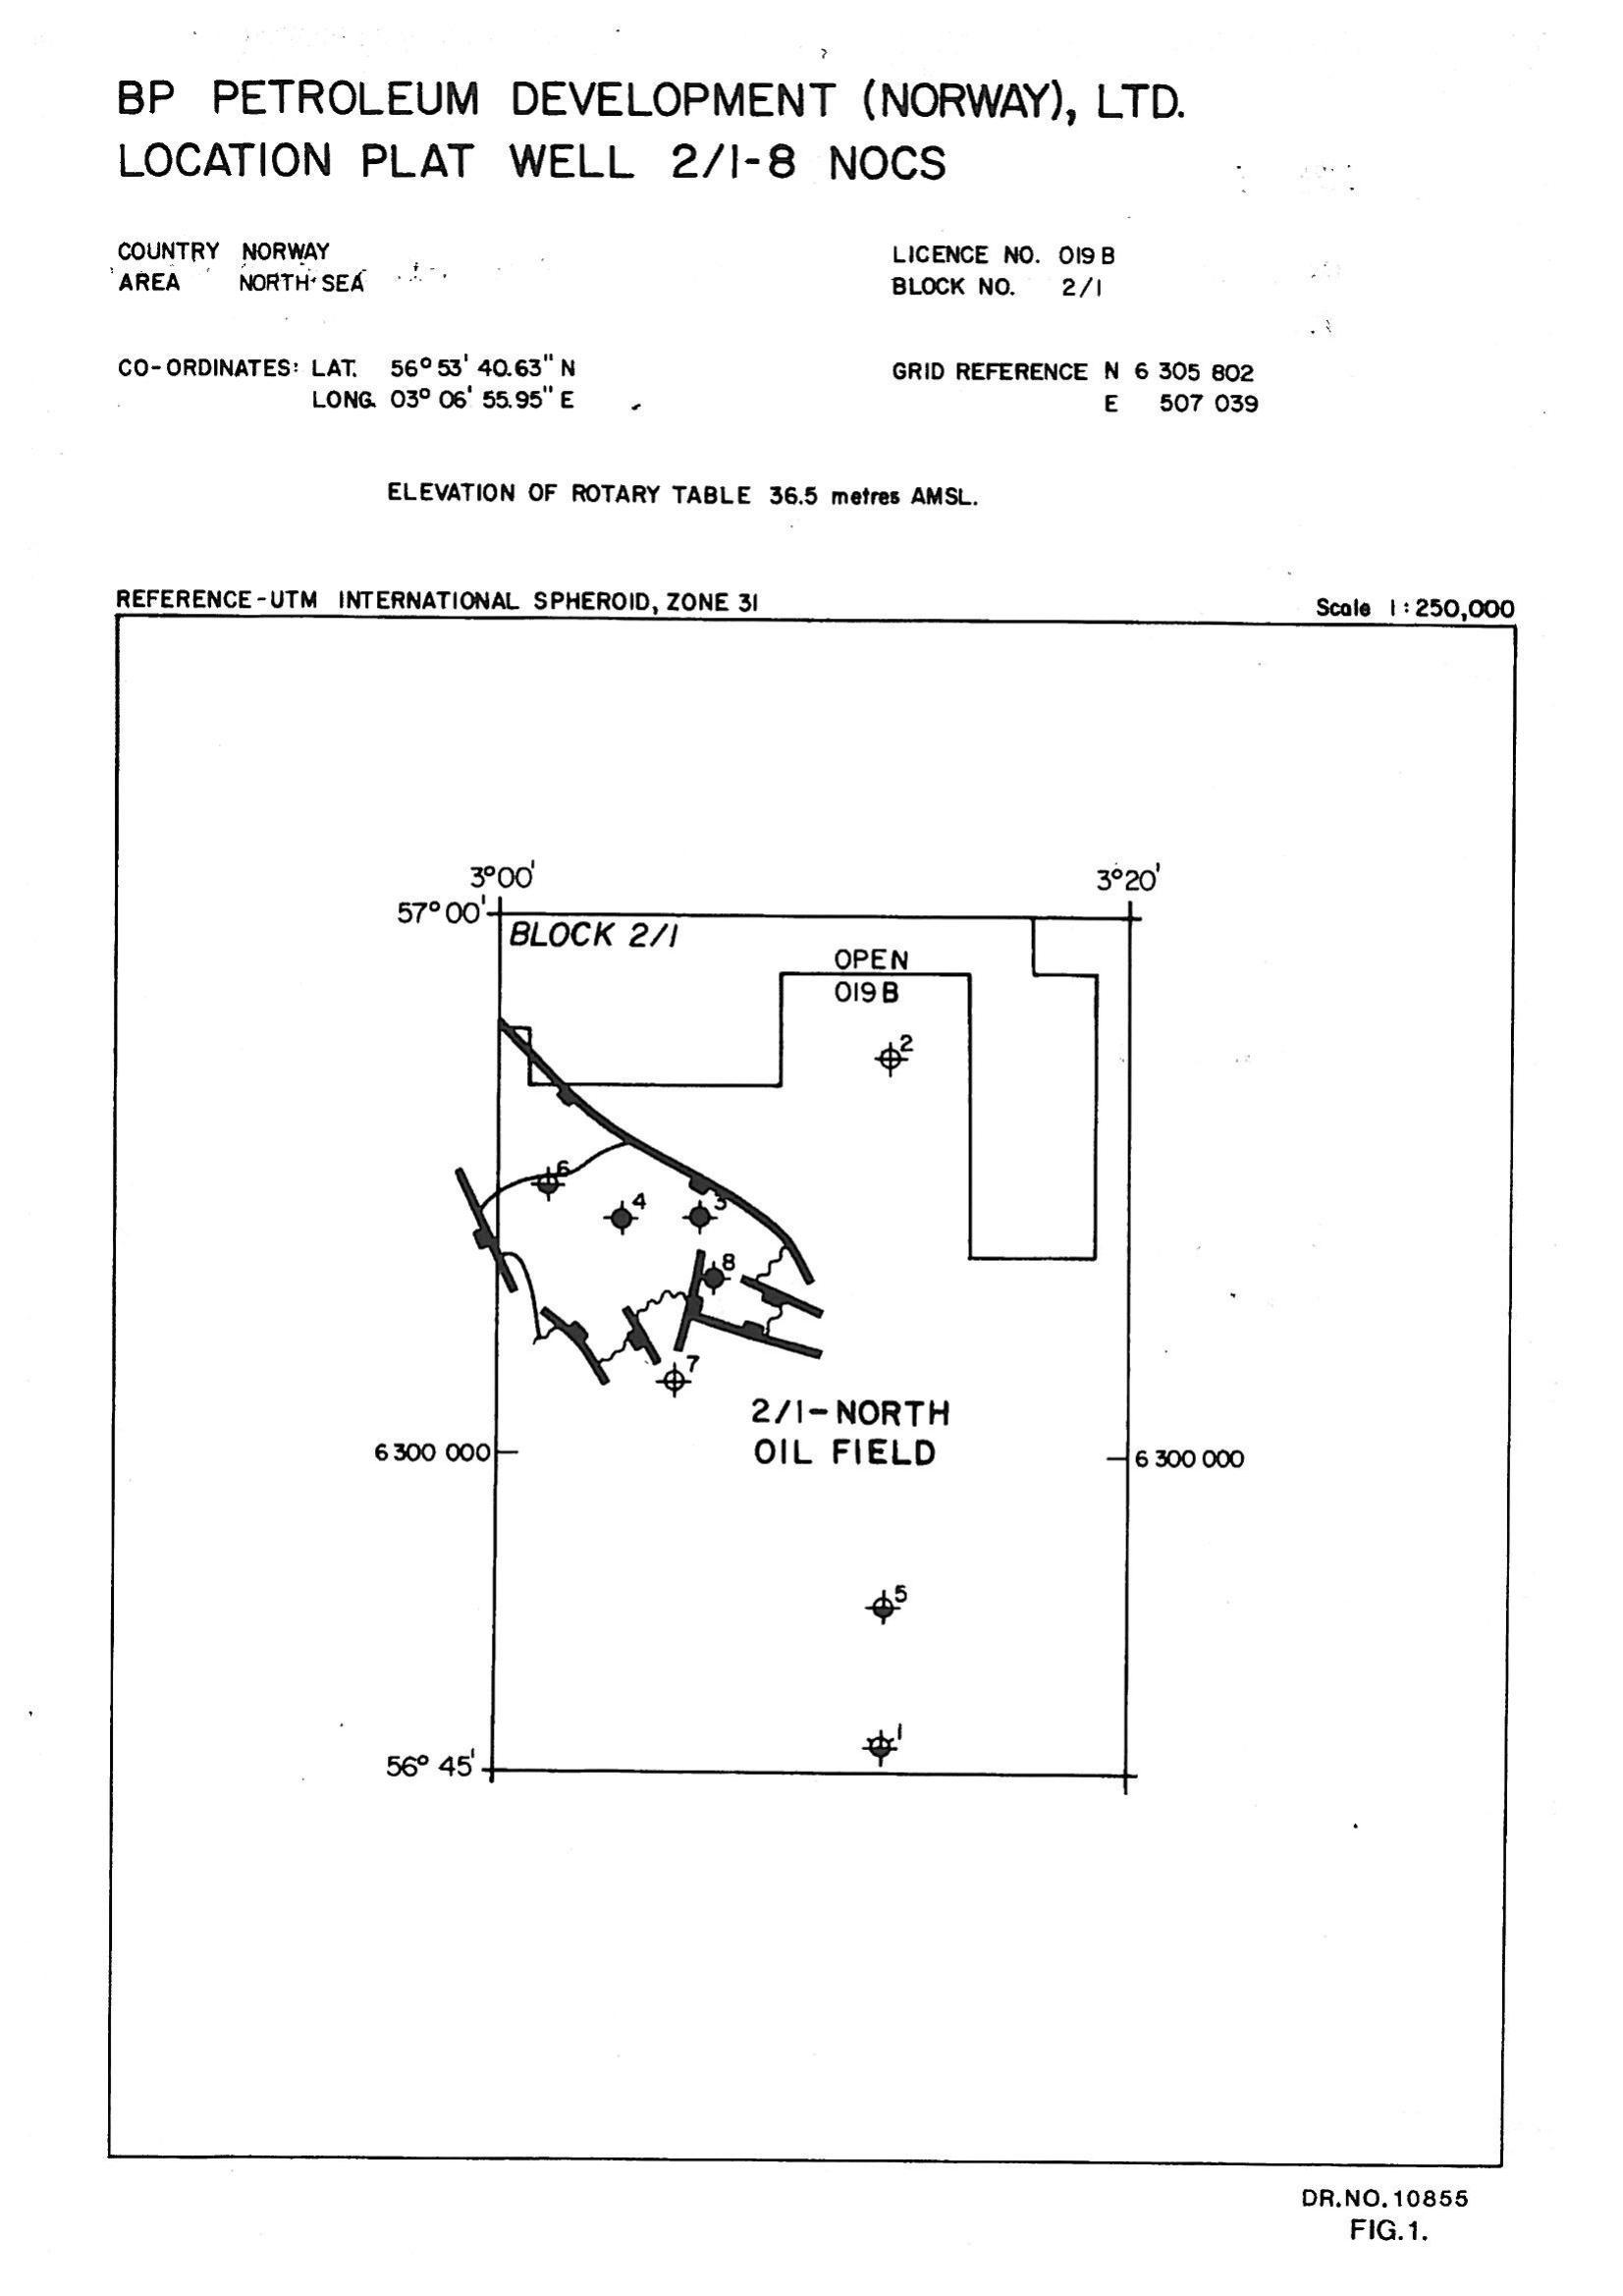graph: (79, 564, 1533, 2268)
text: (107, 214, 1286, 522), (102, 69, 1200, 188)
